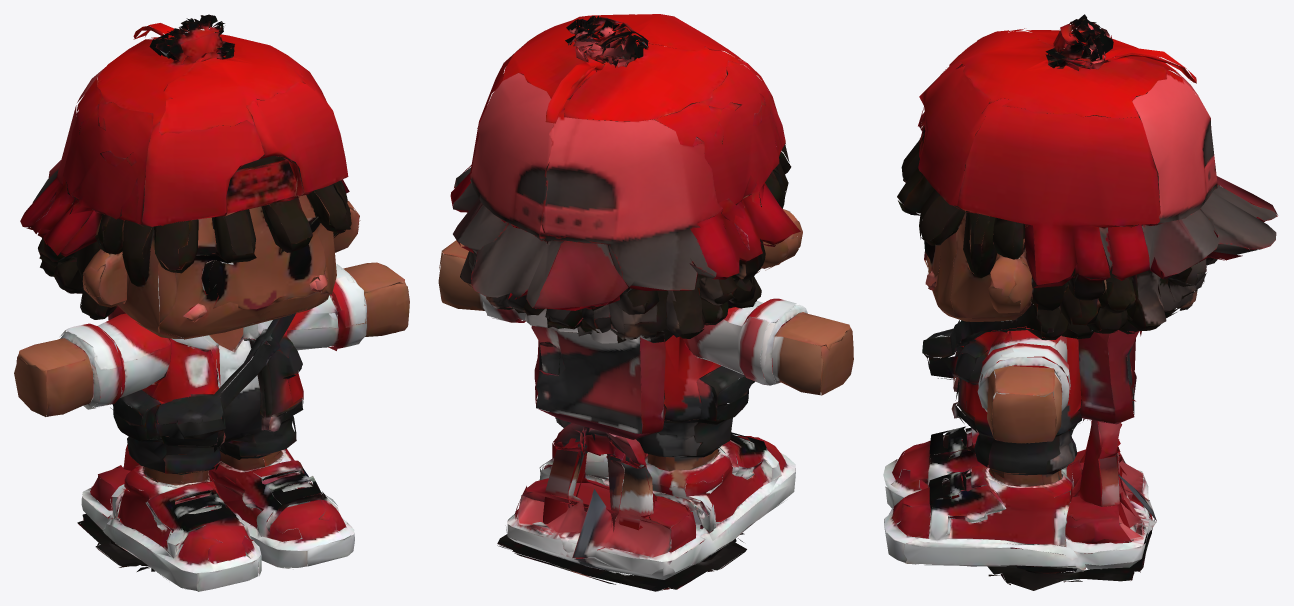
File: ace_final.glb
3 views of the same model, side by side, from view 1: azimuth 30°, elevation 25°; view 2: azimuth 150°, elevation 25°; view 3: azimuth 270°, elevation 25° (orthographic). The views are drawn at different scales.
Visible parts, largest first — view 1: Body; view 2: Body; view 3: Body.
Part boxes in pixels (x1,y1,x2,y2): Body: [14, 14, 409, 591]; Body: [438, 14, 853, 591]; Body: [883, 14, 1277, 590].
Size of the model in its own units: 0.5588 by 0.72 by 0.4963.
Materials: 1 (1 with a texture image).
